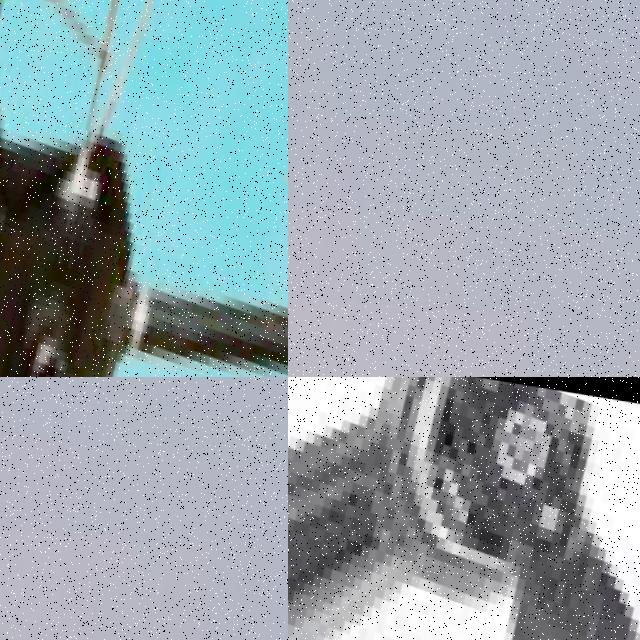drone: (0, 0, 288, 377), (288, 377, 640, 640)
